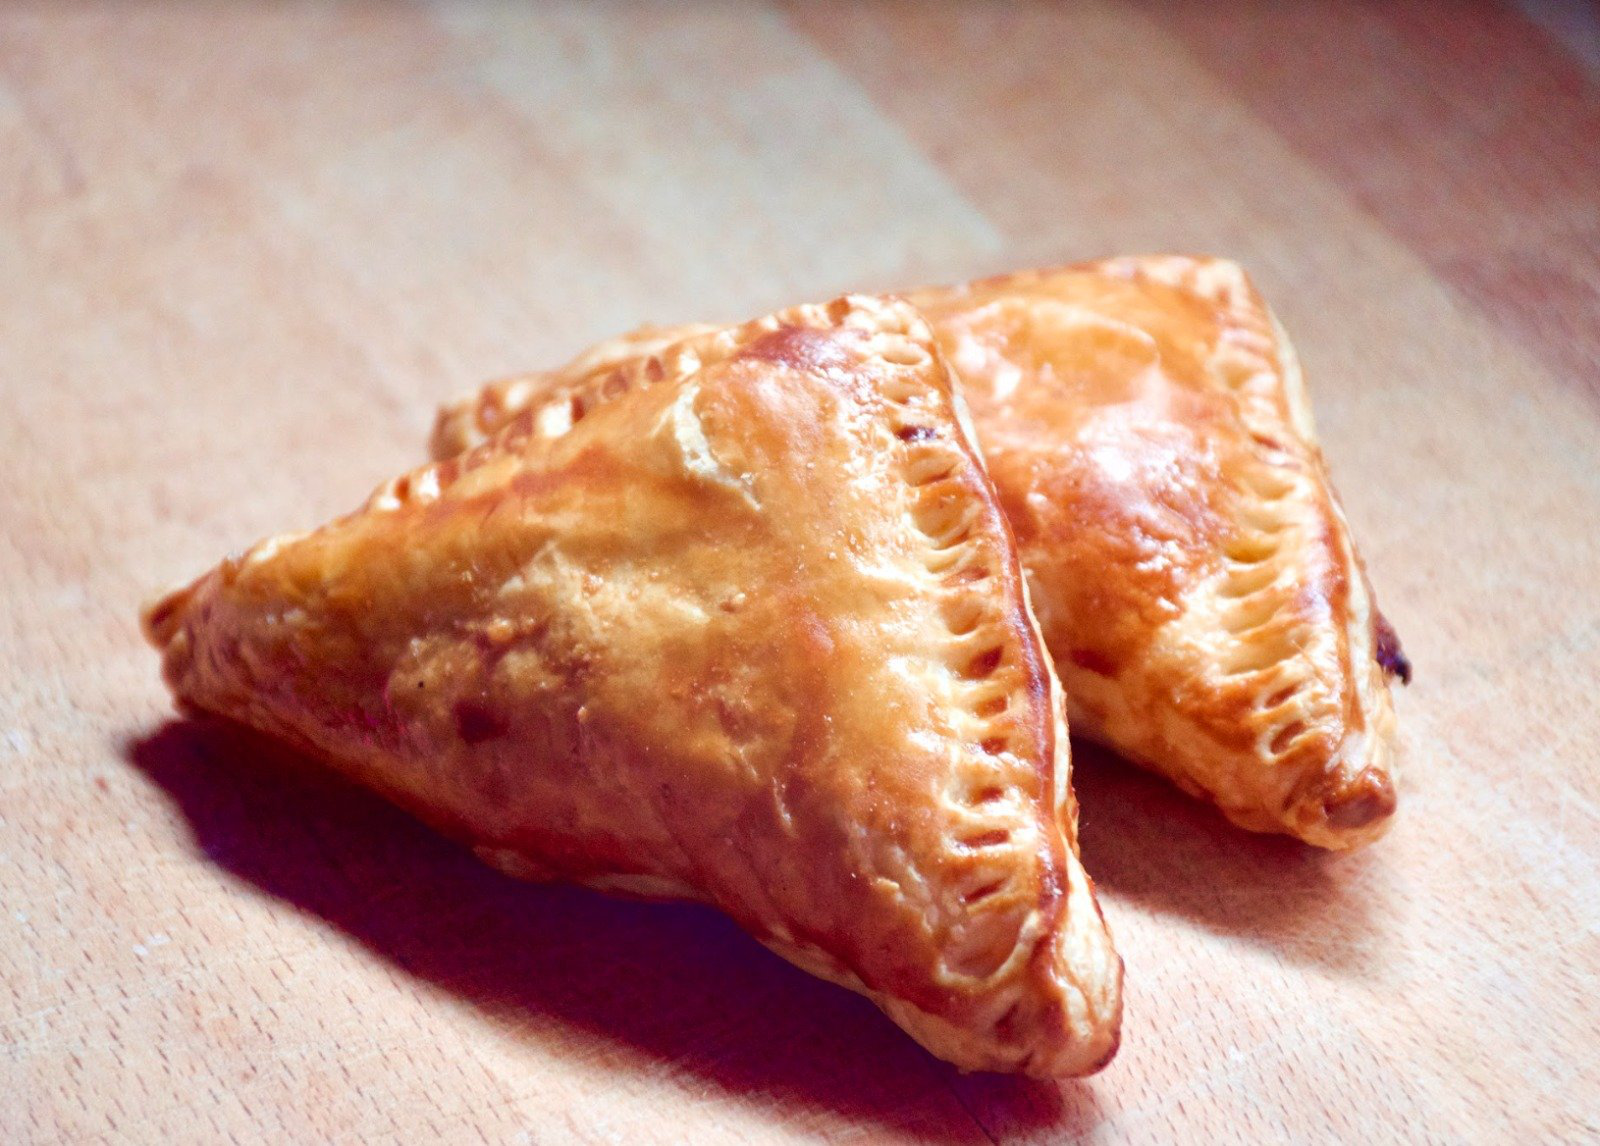Curry Puff: (105, 324, 1119, 1110), (424, 246, 1470, 889)
